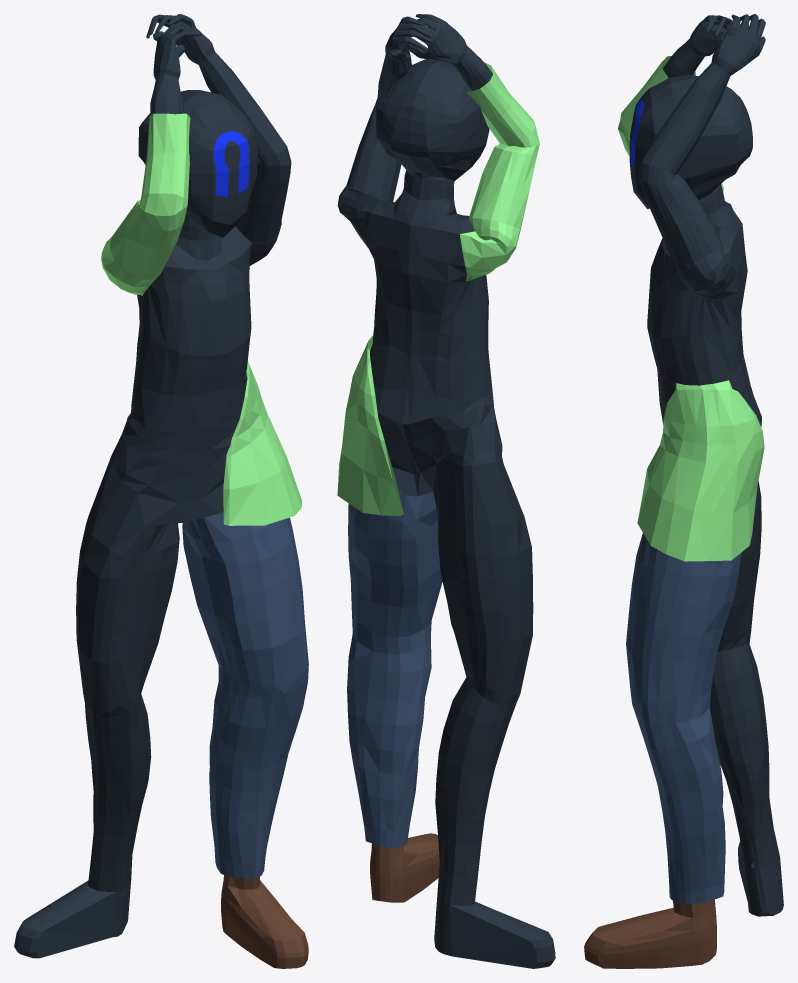
The model's file is Mar_Attack_000014.obj.
3 renders of one model, left to right at view 1: azimuth 30°, elevation 25°; view 2: azimuth 150°, elevation 25°; view 3: azimuth 270°, elevation 25°, orthographic.
Visible parts, largest first — view 1: Cube.000_Cube.001; view 2: Cube.000_Cube.001; view 3: Cube.000_Cube.001.
Boxes of the visible parts, <box> form: Cube.000_Cube.001: <box>14,14,308,968</box>; Cube.000_Cube.001: <box>337,14,555,968</box>; Cube.000_Cube.001: <box>584,14,783,968</box>.
Bounding box in the file's own units: 1.21 × 4.19 × 0.8232.
